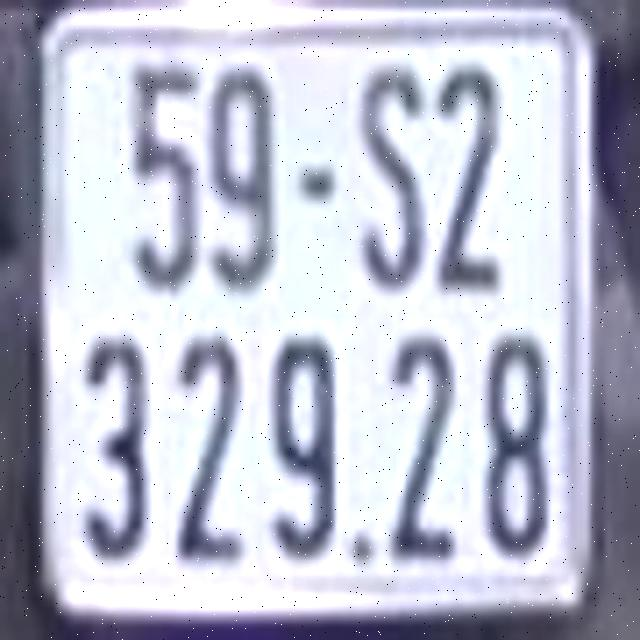2: (389, 332, 456, 561), (177, 335, 243, 562), (438, 67, 503, 290)
3: (83, 337, 149, 558)
5: (132, 64, 200, 288)
8: (485, 336, 549, 558)
9: (209, 66, 274, 289), (272, 336, 337, 558)
S: (358, 66, 425, 287)
